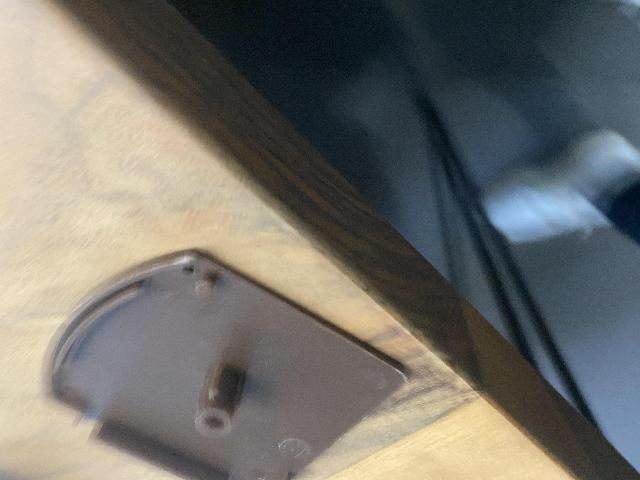Plastik: (32, 249, 408, 480)
